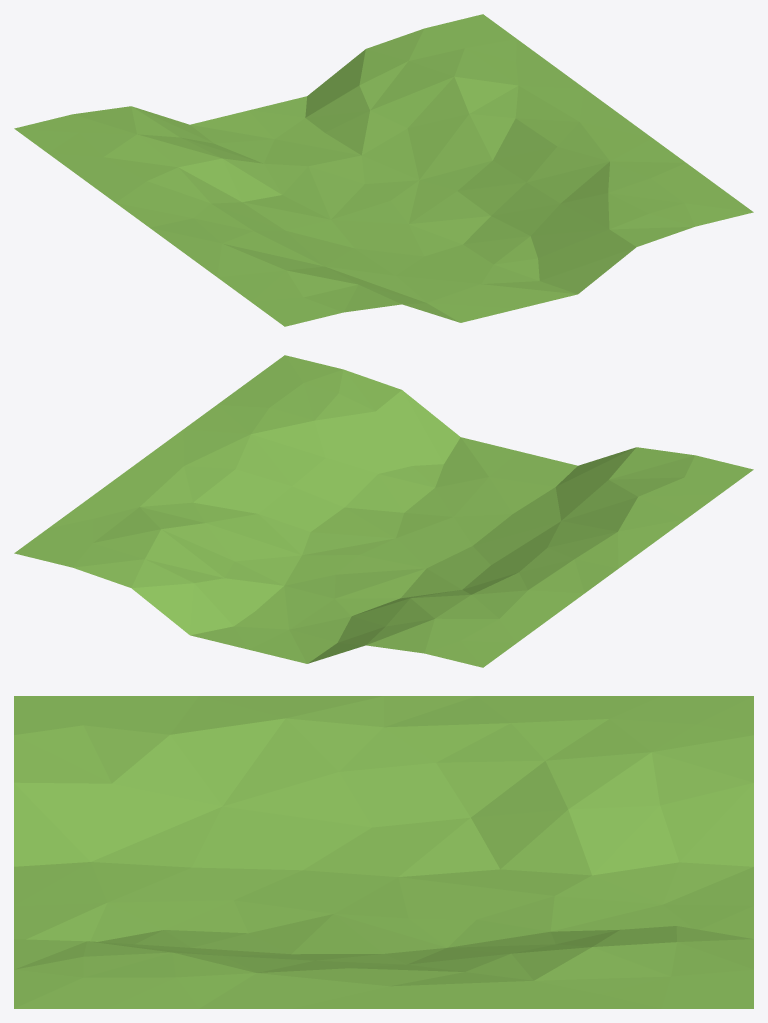
Rendered from MT_River_S_a_02_LOD.fbx.
3 renders of one model, top to bottom at view 1: azimuth 30°, elevation 25°; view 2: azimuth 150°, elevation 25°; view 3: azimuth 270°, elevation 25°, orthographic. The views are drawn at different scales.
Visible parts, largest first — view 1: MT_River_S_a_02_LOD0; view 2: MT_River_S_a_02_LOD0; view 3: MT_River_S_a_02_LOD0.
Boxes of the visible parts, box(x1,y1,x2,y2) form: MT_River_S_a_02_LOD0: box(14, 14, 753, 326); MT_River_S_a_02_LOD0: box(14, 355, 753, 667); MT_River_S_a_02_LOD0: box(14, 696, 753, 1008).
Size of what is drawn, in the model's own units: 2500 by 240 by 2500.
